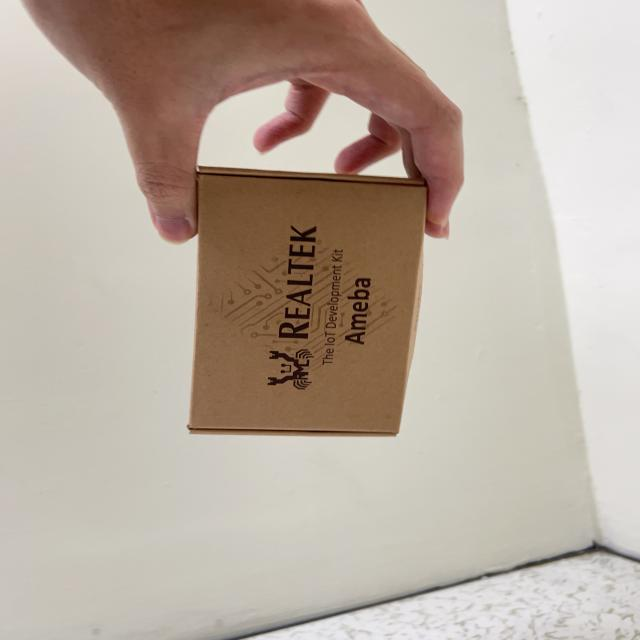box: (182, 154, 444, 456)
